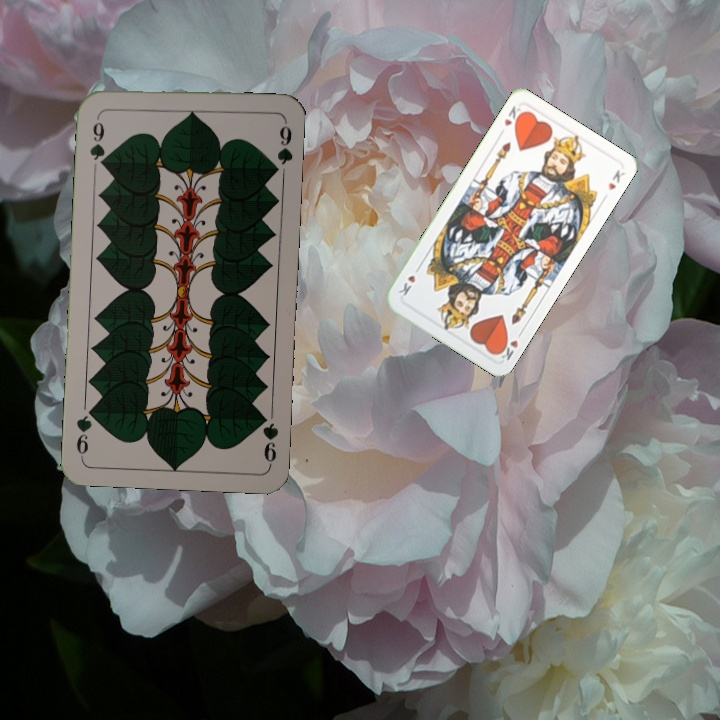G9: (255, 408, 281, 468), (86, 110, 108, 170)
HK: (493, 327, 526, 363), (500, 102, 526, 130)
